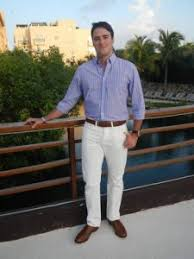F_belt: (80, 113, 137, 132)
